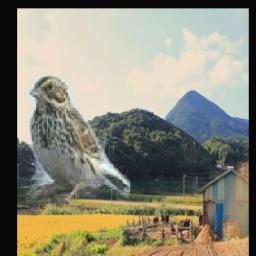Sparrow: (25, 72, 130, 202)
